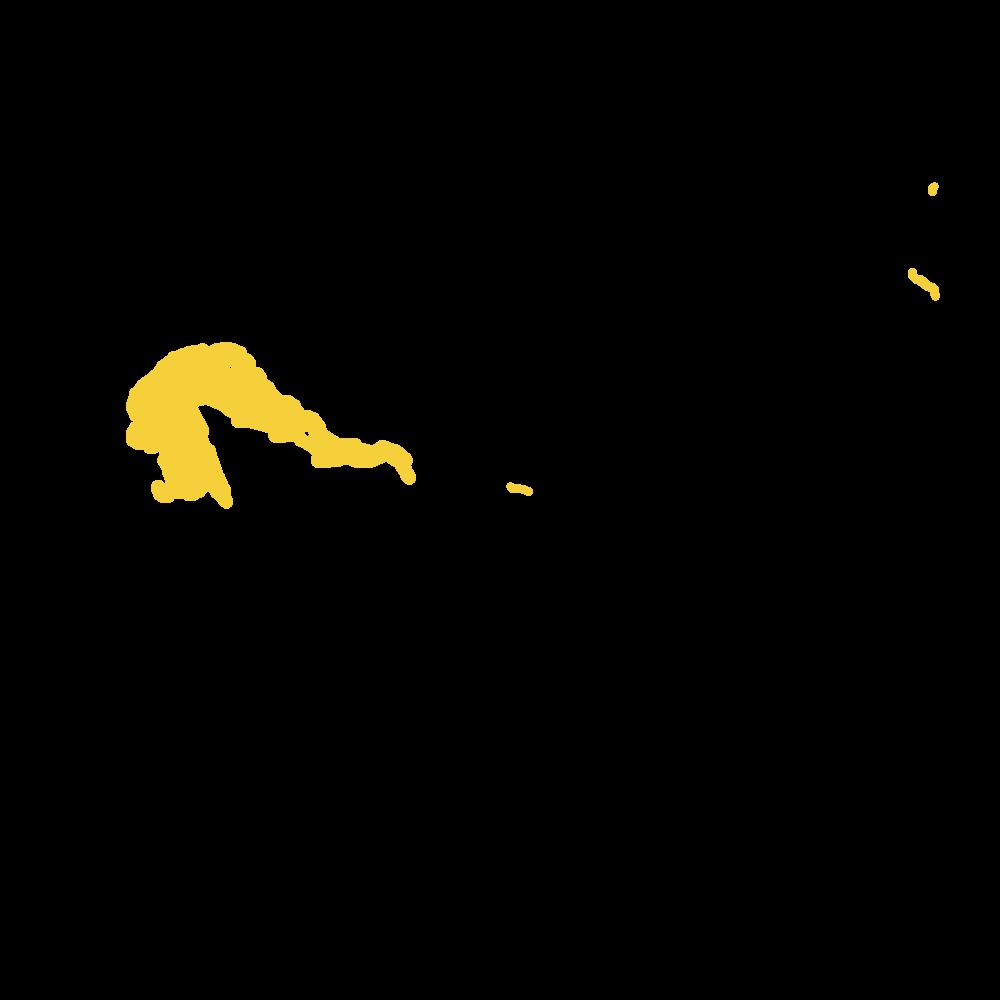legal: (117, 342, 438, 504), (498, 476, 535, 501), (510, 910, 527, 928)
